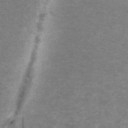finishing roll printing: (6, 0, 49, 127)
